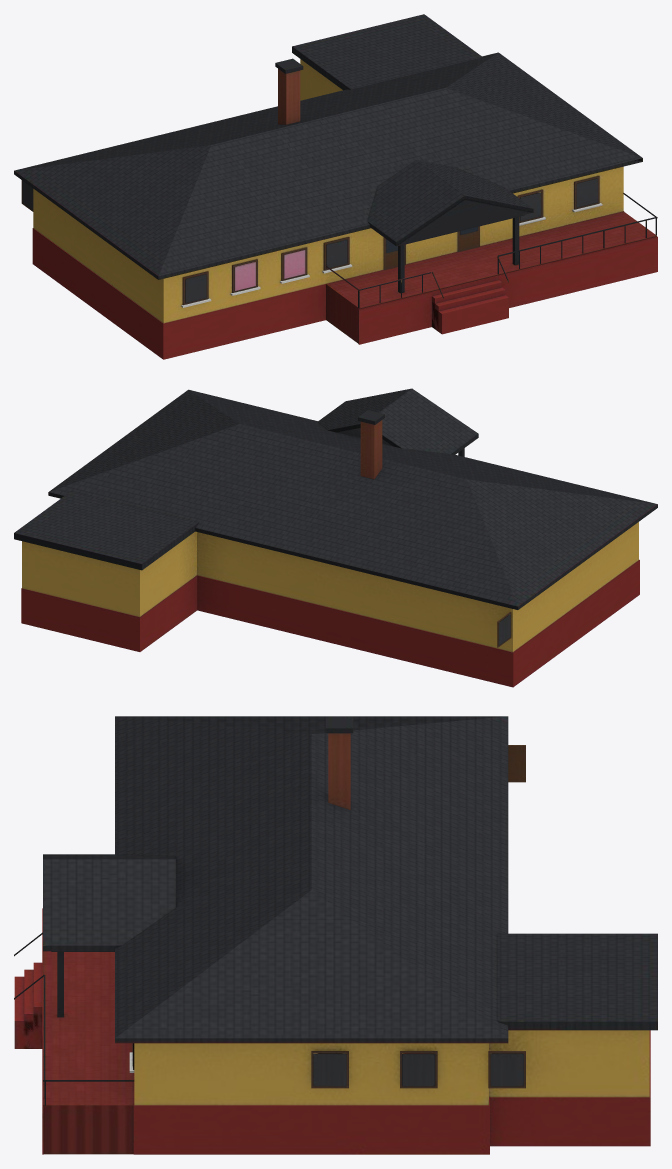
File: osrodek.glb
The picture shows the model from 3 angles, top to bottom: view 1: azimuth 30°, elevation 25°; view 2: azimuth 150°, elevation 25°; view 3: azimuth 270°, elevation 25°; orthographic projection. The views are drawn at different scales.
Parts seen in each view (by area): view 1: osrodek; view 2: osrodek; view 3: osrodek.
Boxes of the visible parts, x1=… form: osrodek: x1=14, y1=14, x2=657, y2=359; osrodek: x1=14, y1=388, x2=657, y2=687; osrodek: x1=14, y1=716, x2=657, y2=1154.
Size of the model in its own units: 27.5 by 10.35 by 23.25.
Materials: 1 (1 with a texture image).
